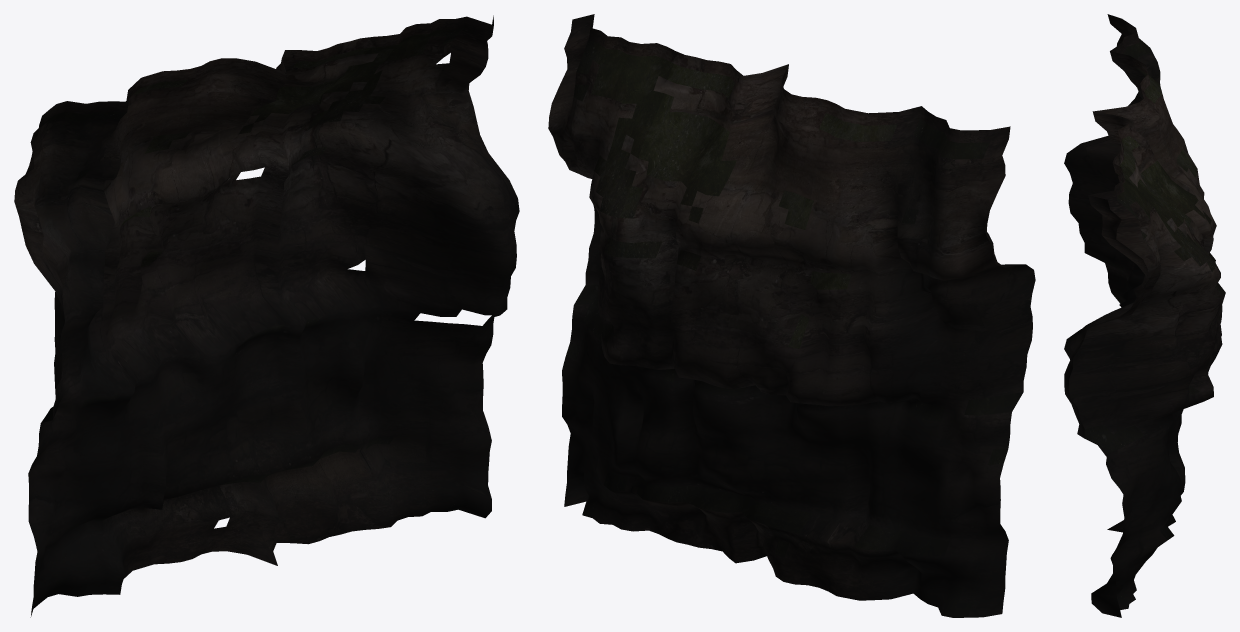
The model's file is cliff_wall_4m_mid.glb.
3 views of the same model, side by side, from view 1: azimuth 30°, elevation 25°; view 2: azimuth 150°, elevation 25°; view 3: azimuth 270°, elevation 25° (orthographic). The views are drawn at different scales.
Visible parts, largest first — view 1: cliff_wall_4m_mid; view 2: cliff_wall_4m_mid; view 3: cliff_wall_4m_mid.
Part boxes in pixels (bbox=[...]): cliff_wall_4m_mid: bbox=[14, 15, 519, 617]; cliff_wall_4m_mid: bbox=[548, 14, 1035, 617]; cliff_wall_4m_mid: bbox=[1064, 14, 1225, 617].
Bounding box in the file's own units: 4 × 4.2 × 1.47.
2 materials, 2 textured.
